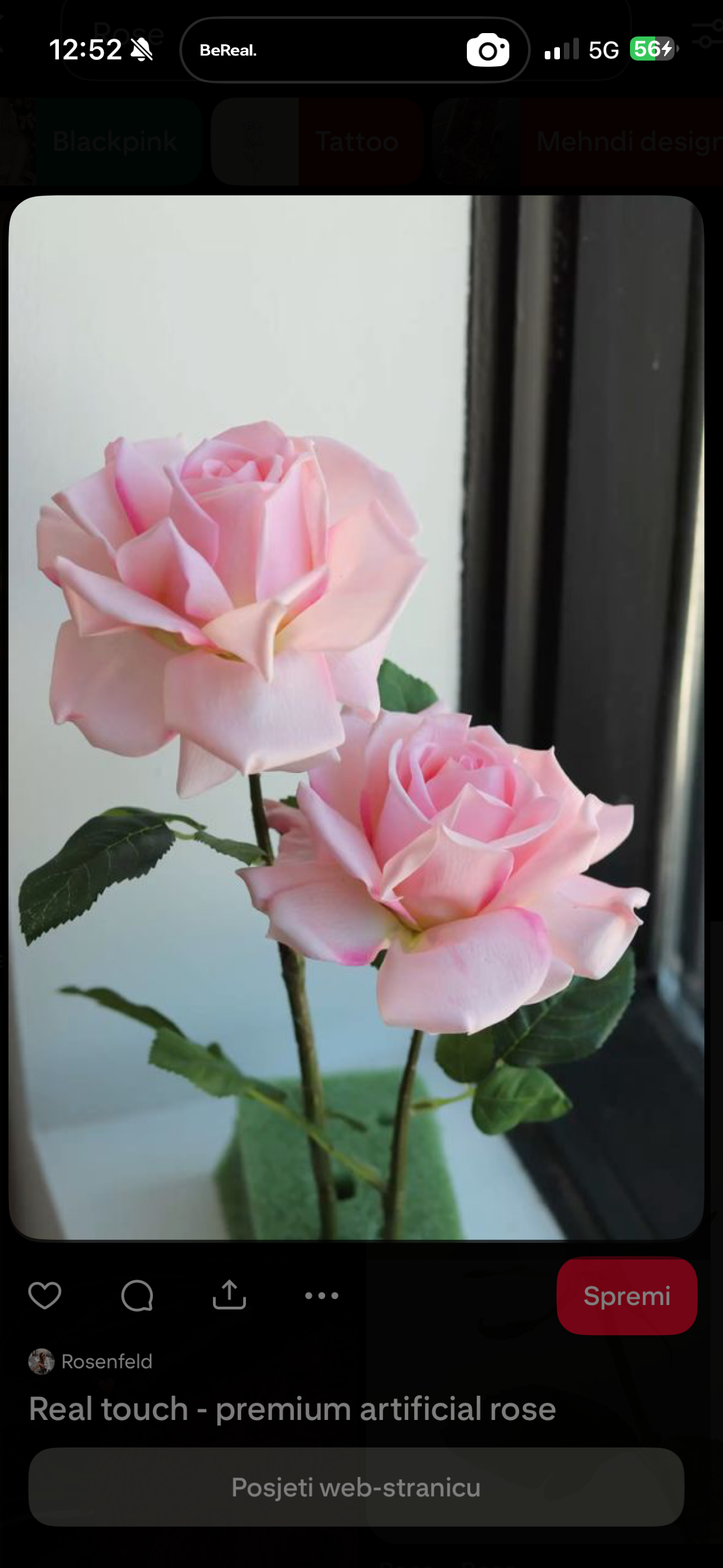rose: (31, 401, 431, 776), (260, 696, 662, 1036)
